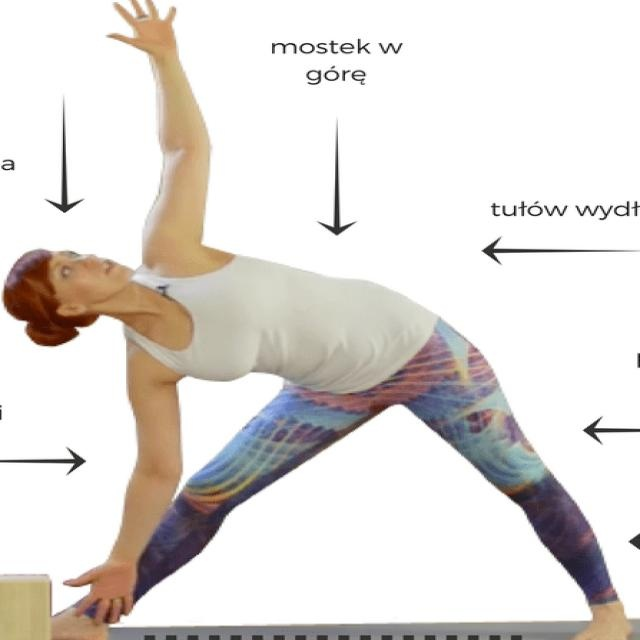Triangle_Pose: (2, 1, 636, 639)
